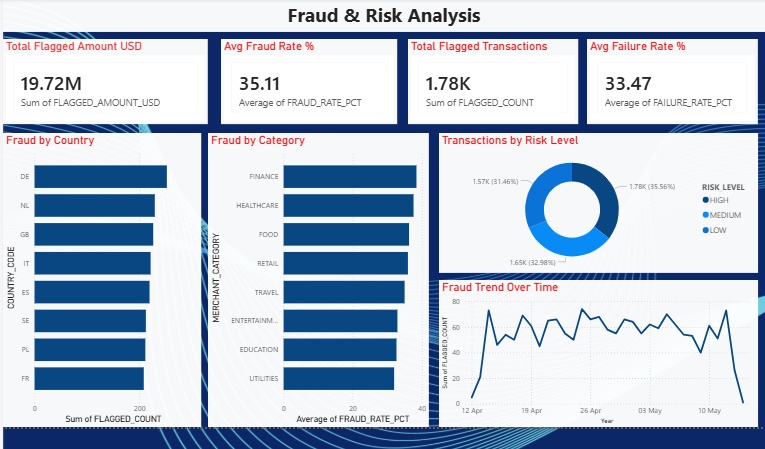

Layout of this report page (visuals, bound fields, positions):
{"tool":"powerbi","page":{"name":"Fraud & Risk Analysis","canvas":[1280,720],"ordinal":2},"visuals":[{"type":"textbox","box":[0,0,1280,57.1],"z":0},{"type":"cardVisual","title":"Total Flagged Amount USD","fields":{"Data":["Sum(FCT_FRAUD_ANALYSIS (2).FLAGGED_AMOUNT_USD)"]},"box":[0,68.9,344.4,142.8],"z":1000},{"type":"cardVisual","title":"Avg Fraud Rate %","fields":{"Data":["Avg(FCT_FRAUD_ANALYSIS (2).FRAUD_RATE_PCT)"]},"box":[366.2,68.9,295.6,142.8],"z":2000},{"type":"cardVisual","title":"Total Flagged Transactions","fields":{"Data":["Sum(FCT_FRAUD_ANALYSIS (2).FLAGGED_COUNT)"]},"box":[680.3,68.9,285.6,142.8],"z":3000},{"type":"cardVisual","title":"Avg Failure Rate %","fields":{"Data":["Avg(FCT_FRAUD_ANALYSIS (2).FAILURE_RATE_PCT)"]},"box":[981,68.9,287.2,142.8],"z":4000},{"type":"clusteredBarChart","title":"Fraud by Country","fields":{"Category":["FCT_FRAUD_ANALYSIS.COUNTRY_CODE"],"Y":["Sum(FCT_FRAUD_ANALYSIS.FLAGGED_COUNT)"]},"box":[0,226.8,332.6,493.9],"z":5000},{"type":"clusteredBarChart","title":"Fraud by Category","fields":{"Category":["FCT_FRAUD_ANALYSIS.MERCHANT_CATEGORY"],"Y":["Avg(FCT_FRAUD_ANALYSIS.FRAUD_RATE_PCT)"]},"box":[344.4,226.8,371.2,493.9],"z":6000},{"type":"lineChart","title":"Fraud Trend Over Time","fields":{"Y":["Sum(FCT_FRAUD_ANALYSIS.FLAGGED_COUNT)"],"Category":["FCT_FRAUD_ANALYSIS.TRANSACTION_DATE.Variation.Date Hierarchy.Year","FCT_FRAUD_ANALYSIS.TRANSACTION_DATE.Variation.Date Hierarchy.Quarter","FCT_FRAUD_ANALYSIS.TRANSACTION_DATE.Variation.Date Hierarchy.Month","FCT_FRAUD_ANALYSIS.TRANSACTION_DATE.Variation.Date Hierarchy.Day"]},"box":[732.4,473.7,535.9,246.9],"z":7000},{"type":"donutChart","title":"Transactions by Risk Level","fields":{"Category":["FCT_FRAUD_ANALYSIS.RISK_LEVEL"],"Y":["Sum(FCT_FRAUD_ANALYSIS.TOTAL_TRANSACTIONS)"]},"box":[732.4,226.8,535.9,235.2],"z":8000}]}

Visuals, with their boxes in screenshot pixels (x1, y1, x2, y2):
textbox: x1=6 y1=0 x2=760 y2=32
"Total Flagged Amount USD" cardVisual: x1=6 y1=39 x2=209 y2=123
"Avg Fraud Rate %" cardVisual: x1=222 y1=39 x2=396 y2=123
"Total Flagged Transactions" cardVisual: x1=407 y1=39 x2=575 y2=123
"Avg Failure Rate %" cardVisual: x1=584 y1=39 x2=753 y2=123
"Fraud by Country" clusteredBarChart: x1=6 y1=132 x2=202 y2=423
"Fraud by Category" clusteredBarChart: x1=209 y1=132 x2=428 y2=423
"Fraud Trend Over Time" lineChart: x1=438 y1=277 x2=754 y2=423
"Transactions by Risk Level" donutChart: x1=438 y1=132 x2=754 y2=270
